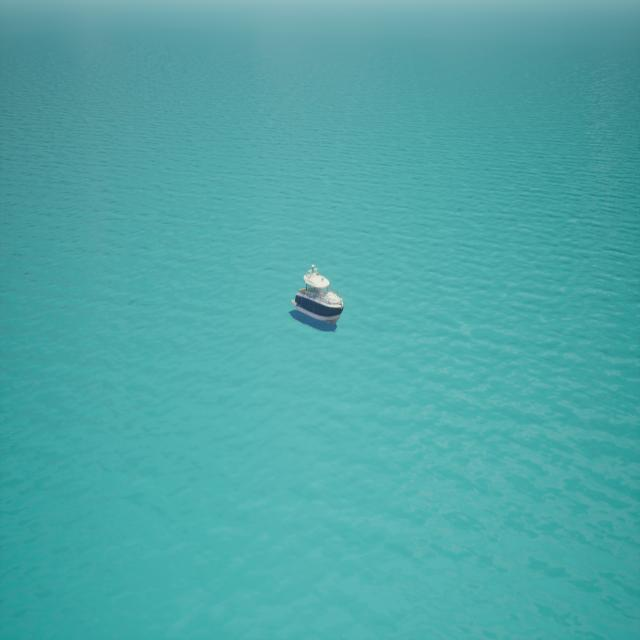ship: (290, 264, 346, 330)
